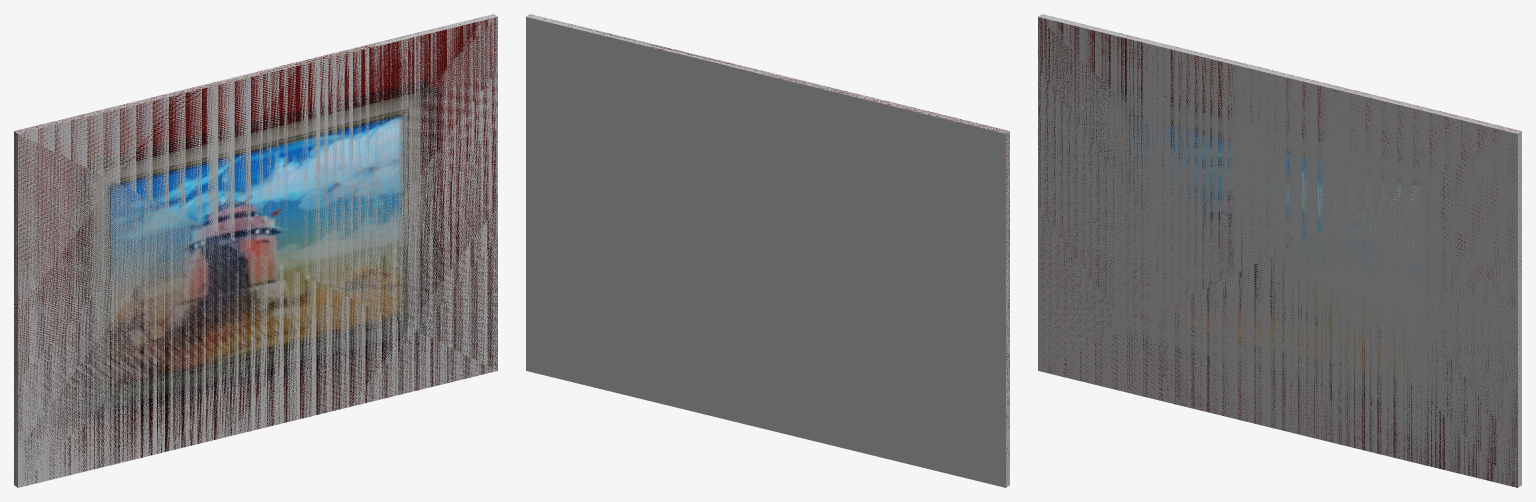
File: painting_04.DAE
3 views of the same model, side by side, from view 1: azimuth 30°, elevation 25°; view 2: azimuth 150°, elevation 25°; view 3: azimuth 330°, elevation 25° (orthographic).
Visible parts, largest first — view 1: bounds, painting_four100; view 2: bounds, painting_four100; view 3: bounds, painting_four100.
Boxes of the visible parts, x1=… form: bounds: x1=14, y1=14, x2=497, y2=487; painting_four100: x1=14, y1=15, x2=497, y2=485; bounds: x1=526, y1=14, x2=1009, y2=487; painting_four100: x1=545, y1=19, x2=1009, y2=462; bounds: x1=1038, y1=14, x2=1521, y2=487; painting_four100: x1=1038, y1=17, x2=1520, y2=487.
Size of the model in its own units: 105 by 1.5 by 74.3.
